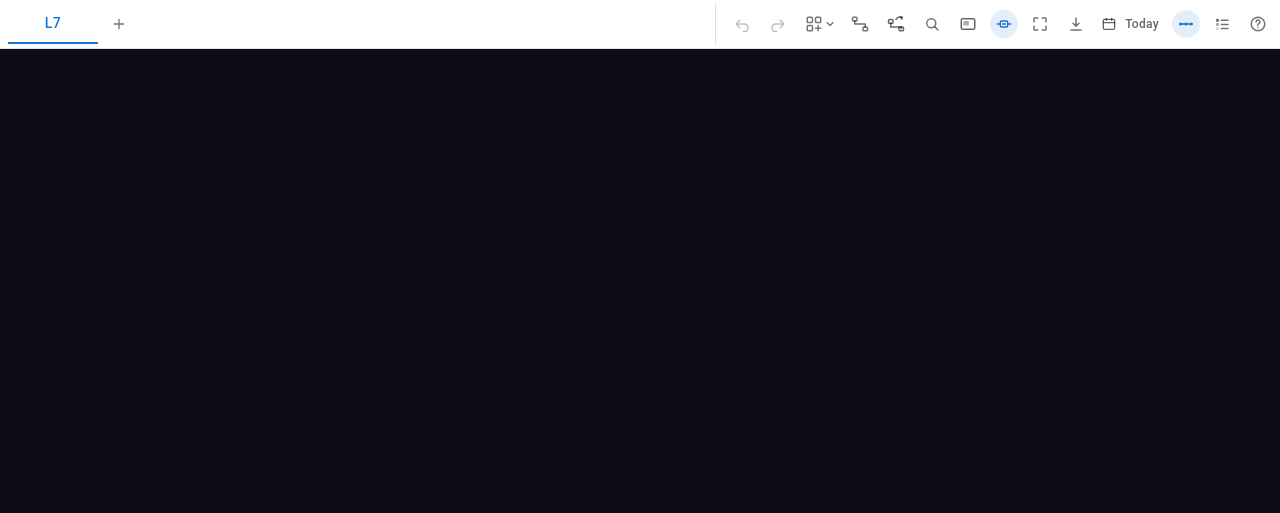
it: EditorToolbar — Tidy split button › applies from the panel and closes it
Click the button named "Tidy settings": (830, 24) left=822, top=16, right=838, bottom=32
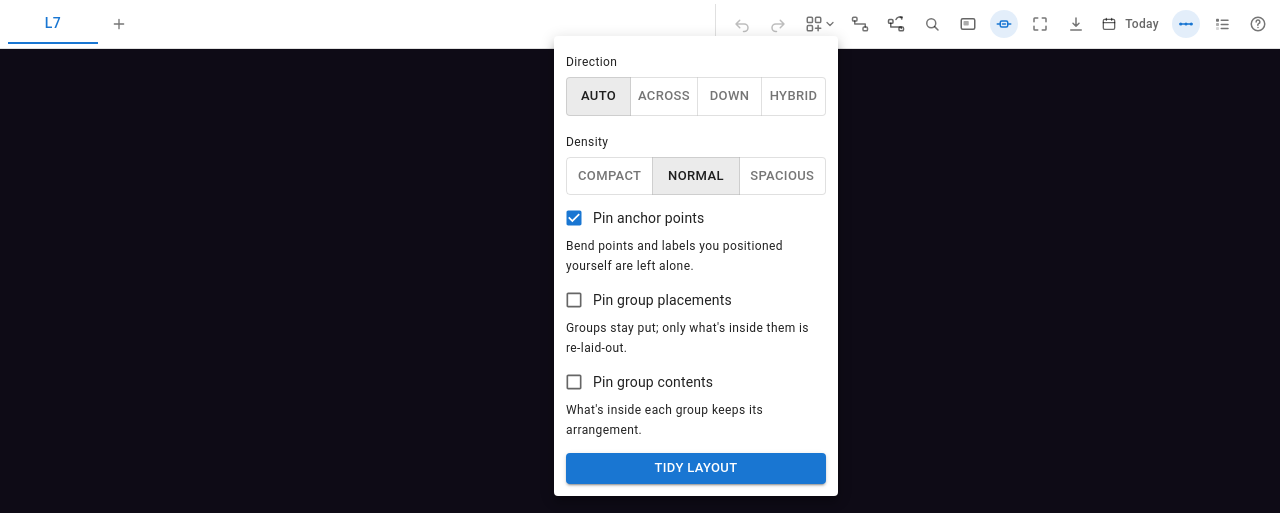
Click the button "Tidy layout": (696, 468) left=566, top=453, right=826, bottom=484
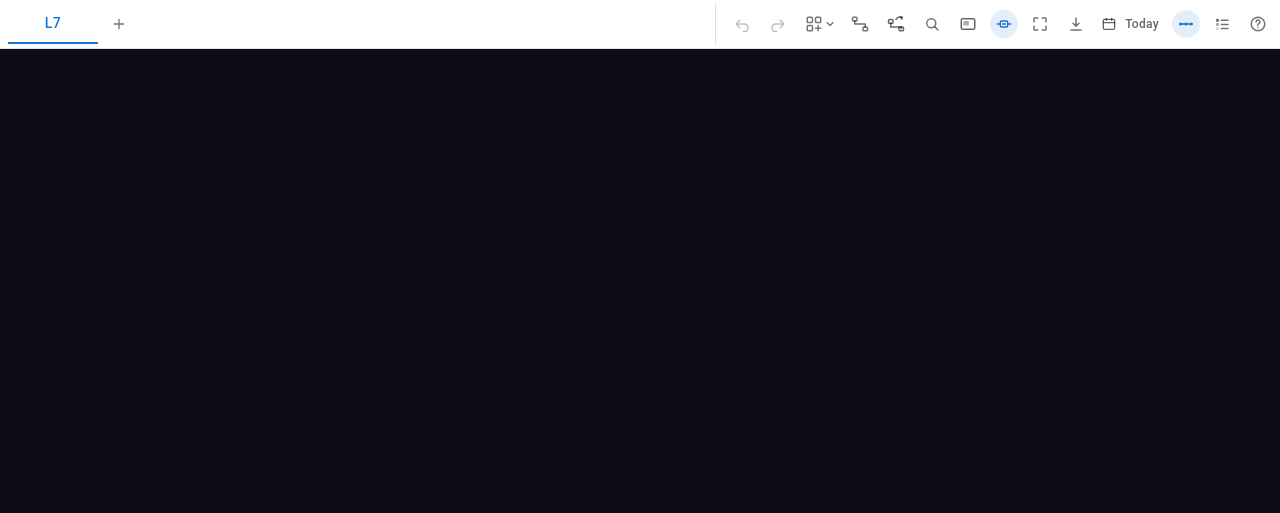
Expected: the text "Direction" is gone
